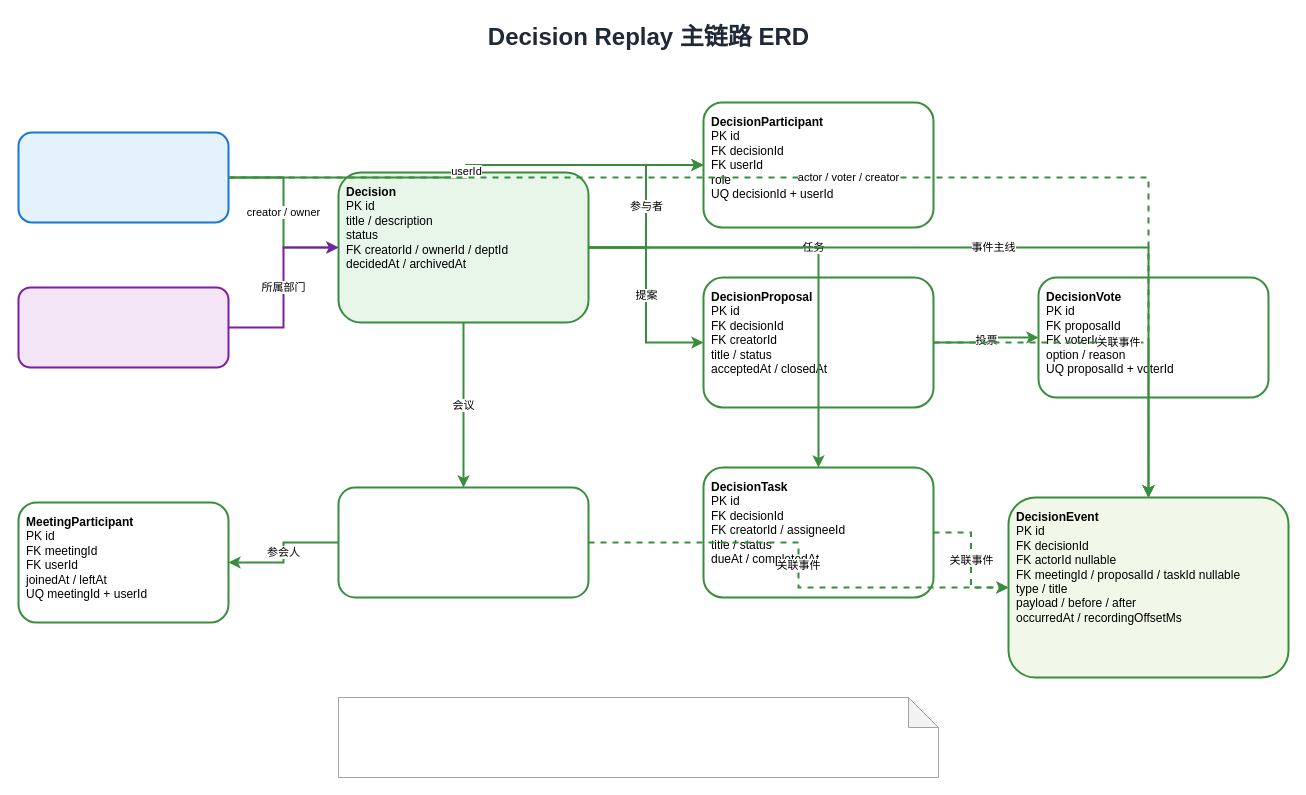
This 1306x795 diagram has some shape labels left out. The centre of each missing label's shape, as x and y in pixels:
DecisionEvent 是回放核心：主表只保存当前状态，关键动作通过事件记录可审计、可回放、可展示字段 before/after diff。: (x=638, y=737)
Department 决策所属部门: (x=123, y=327)
MeetingSession PK id FK decisionId title / status startedAt / endedAt: (x=463, y=542)
User 创建人 / 负责人 / 参与者 / 操作人: (x=123, y=177)
